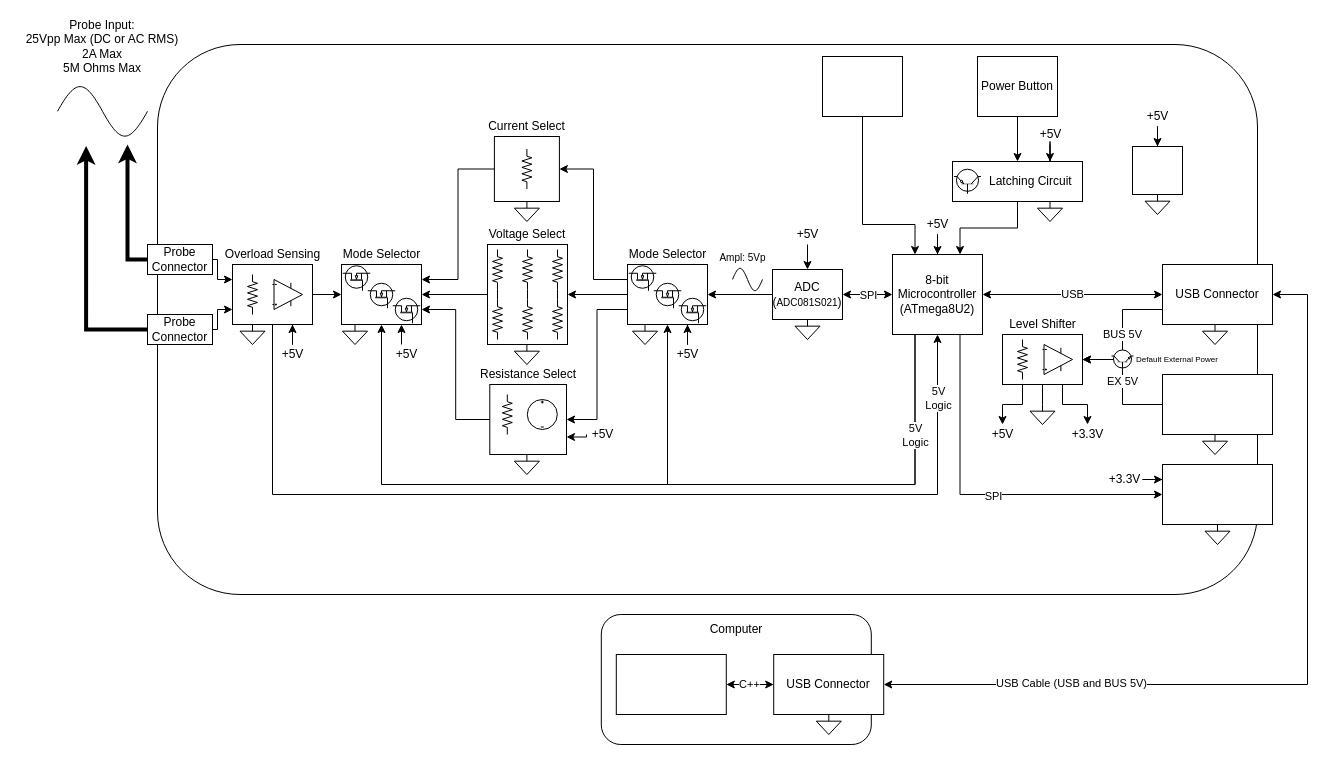
Some shapes in this 1334 by 762 pixel diagram are drawn without their labels. The centre of each missing label's shape, as x and y in pixels:
GUI Control and Data Visualization: (x=670, y=684)
Optional External Power: (x=1217, y=404)
Power LED Indicator: (x=1157, y=170)
Reset Button: (x=862, y=86)
SD Card: (x=1217, y=494)
